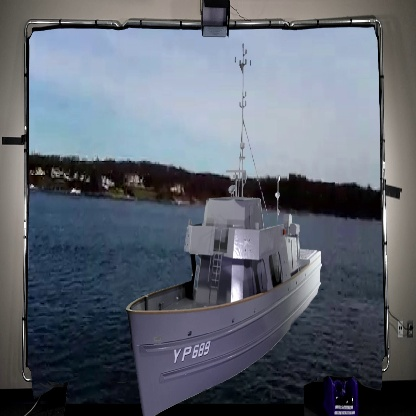YP689: (126, 44, 321, 413)
